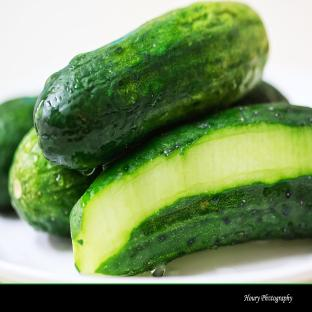Cucumber: (71, 103, 311, 274), (35, 2, 268, 169), (9, 127, 96, 236), (235, 81, 288, 105)
